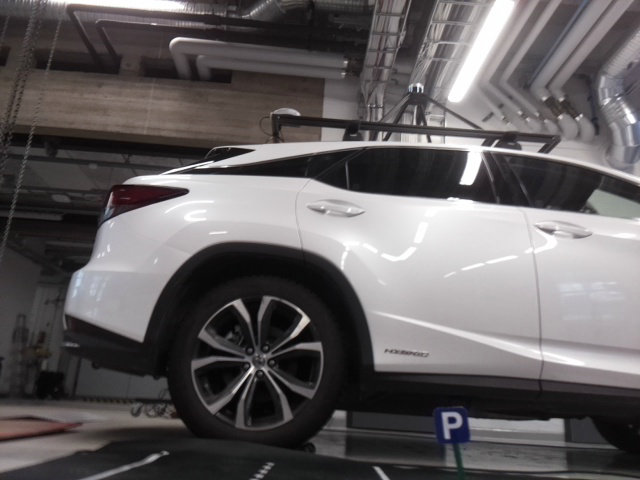Parking: (432, 407, 470, 442)
